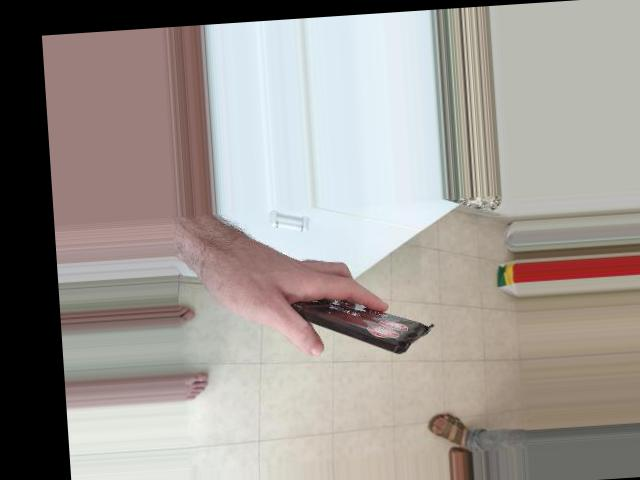chocolate: (274, 271, 438, 364)
